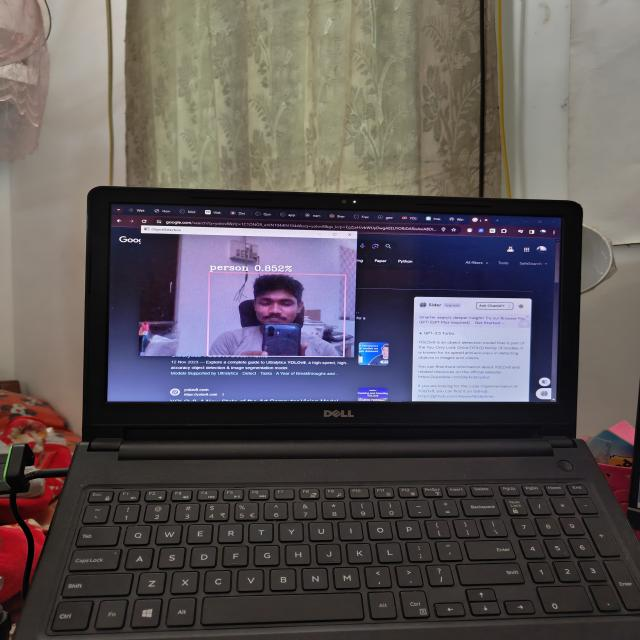laptop: (27, 184, 640, 640)
mobile: (265, 323, 300, 358)
person: (210, 270, 350, 358)
